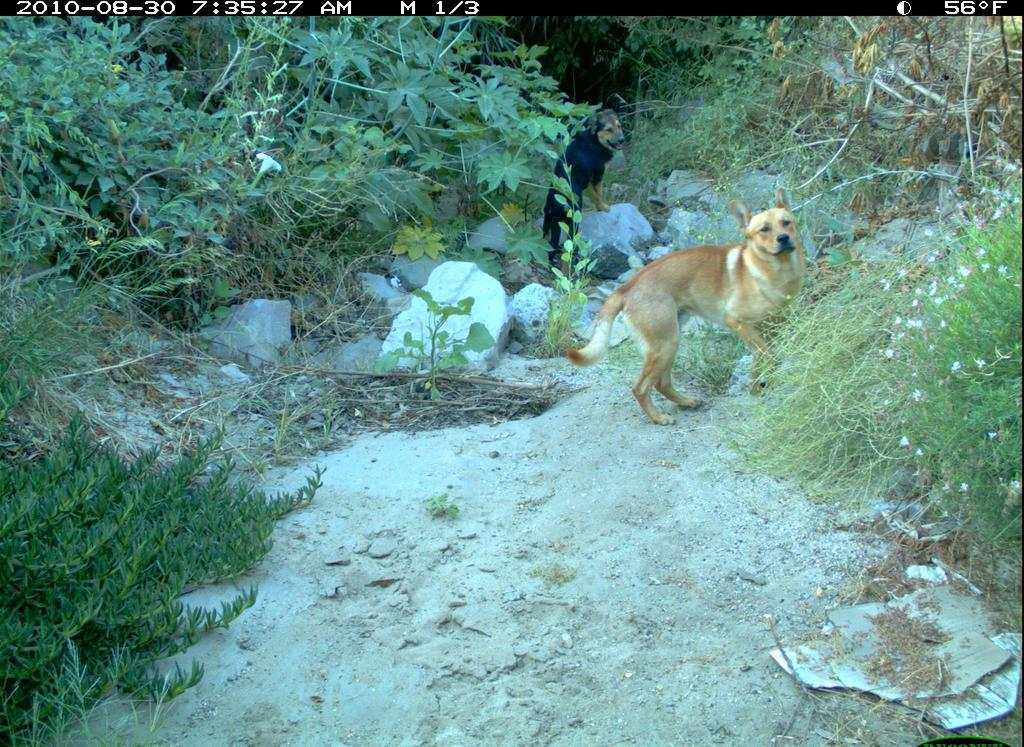dog: (562, 182, 808, 429), (538, 109, 633, 274)
